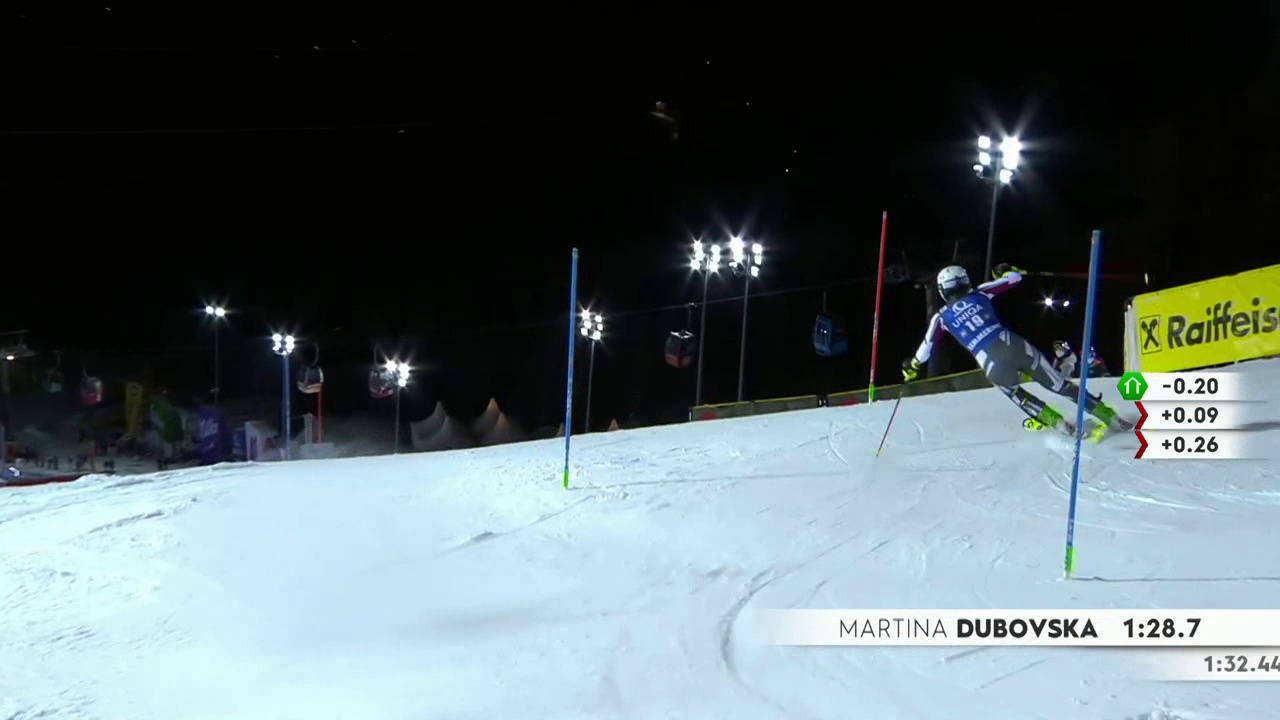raiffeisen: (1142, 250, 1268, 376)
